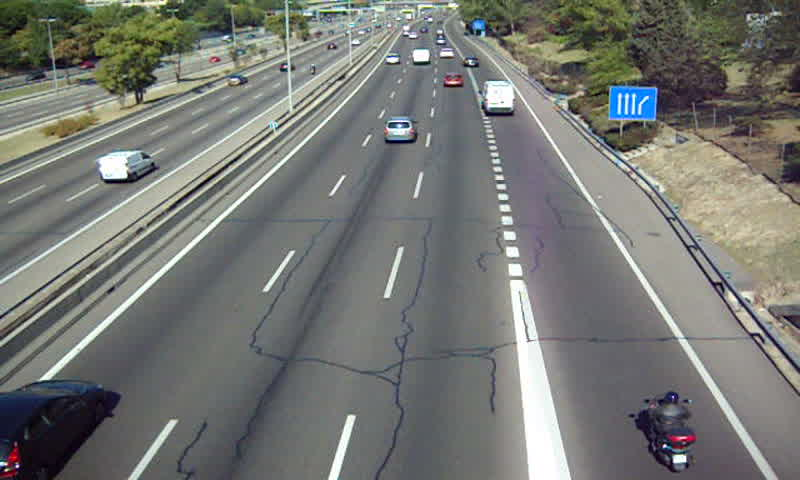car: (1, 380, 104, 480), (382, 116, 418, 144), (441, 72, 463, 89), (462, 55, 480, 69), (440, 46, 455, 59), (385, 53, 399, 66)
motorcycle: (640, 390, 696, 471)
van: (481, 80, 515, 116), (411, 48, 429, 64)
